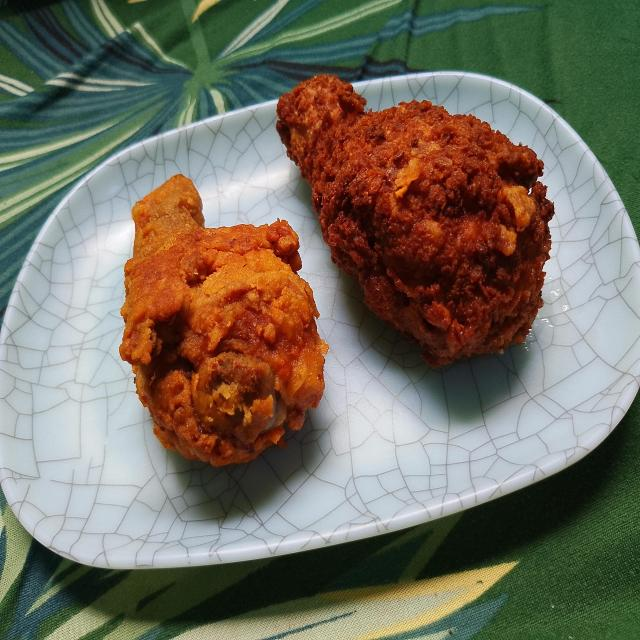Chicken -Fried Chicken-: (275, 76, 570, 394), (114, 152, 328, 436)
